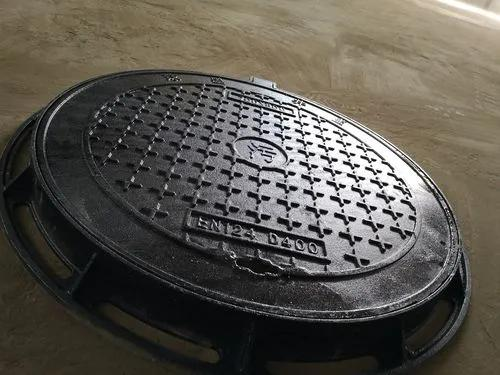wellcover: (21, 46, 477, 368)
